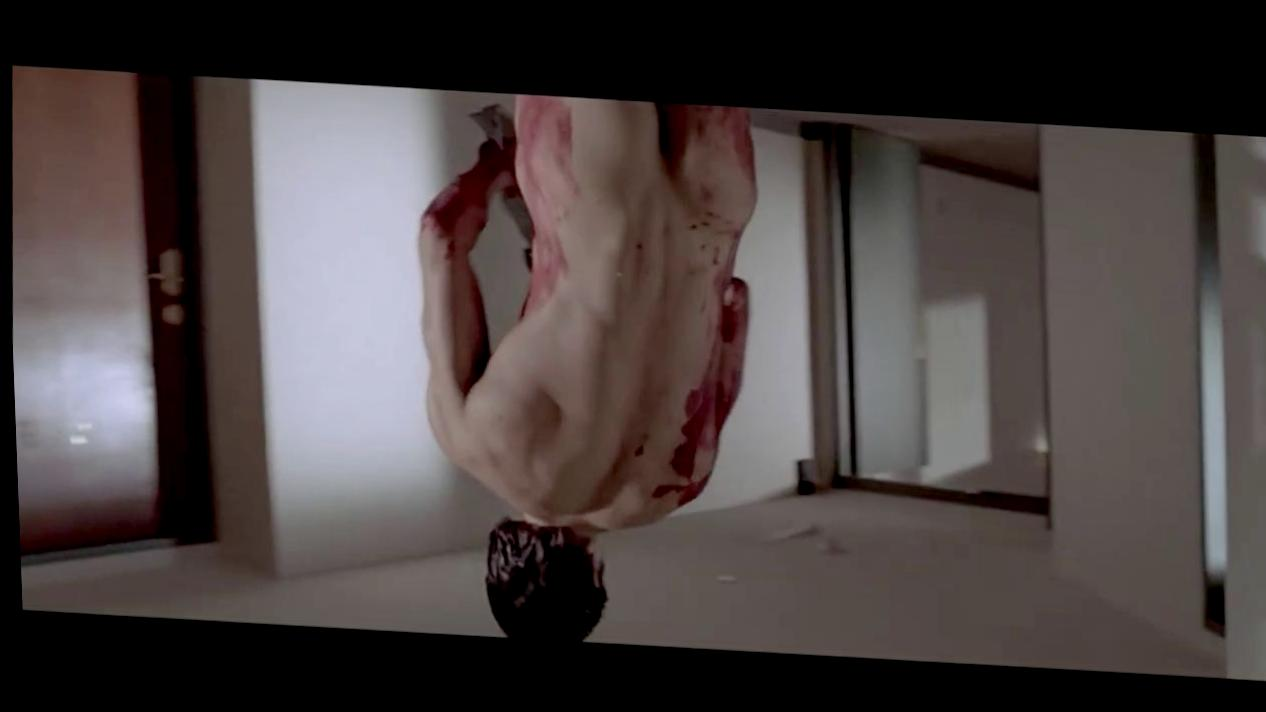Fire: (612, 271, 745, 523), (656, 100, 755, 245), (514, 93, 576, 313), (417, 160, 488, 259)
